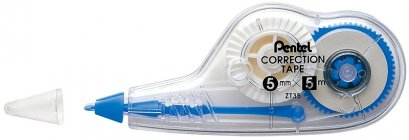Correction_fluid: (77, 1, 409, 140)
